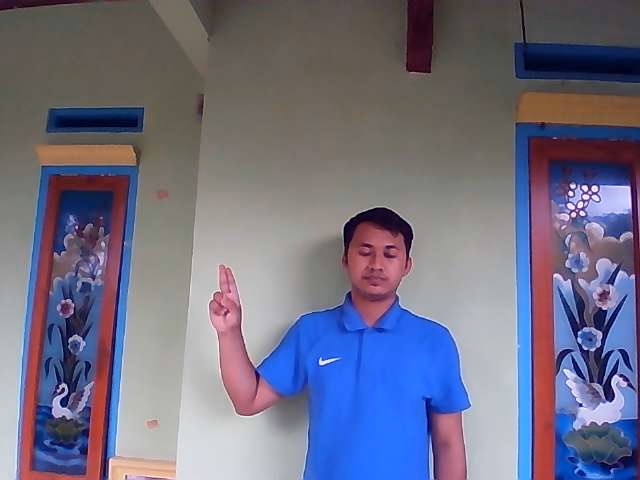U: (208, 263, 242, 331)
